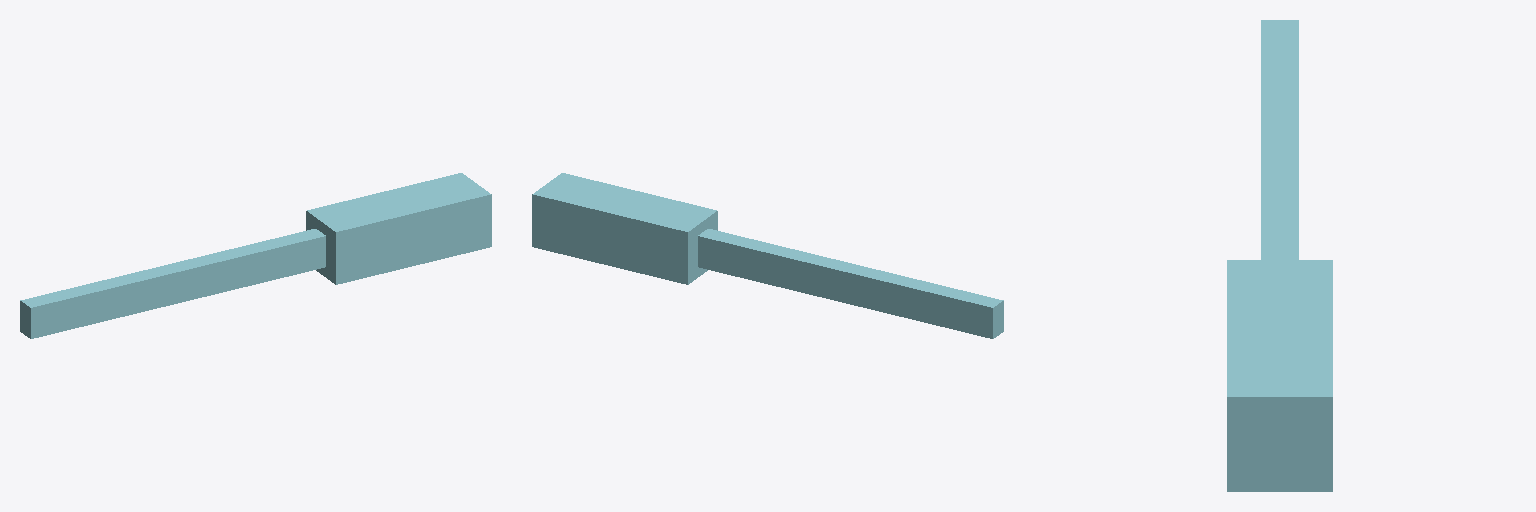
URDF robot description (cuboid_brush_v8010):
<?xml version="1.0"?>
<robot name="cuboid_brush_v8010">

  <link name="cuboid_brush_v8010">
    <!-- Handle -->
    <visual>
      <origin xyz="0 0 0" rpy="0 0 0"/>
      <geometry>
        <box size="0.18955769263837258 0.011457078695408742 0.019215392104791323"/>
      </geometry>
      <material name="material">
        <color rgba="0.639 0.847 0.882 1.0"/>
      </material>
    </visual>
    <collision>
      <origin xyz="0 0 0" rpy="0 0 0"/>
      <geometry>
        <box size="0.18955769263837258 0.011457078695408742 0.019215392104791323"/>
      </geometry>
    </collision>

    <!-- Head -->
    <visual>
      <origin xyz="0.1446833777750735 0 0" rpy="0 0 0"/>
      <geometry>
        <box size="0.09980906291177444 0.03300908023114948 0.03236870100027409"/>
      </geometry>
      <material name="material">
        <color rgba="0.639 0.847 0.882 1.0"/>
      </material>
    </visual>
    <collision>
      <origin xyz="0.1446833777750735 0 0" rpy="0 0 0"/>
      <geometry>
        <box size="0.09980906291177444 0.03300908023114948 0.03236870100027409"/>
      </geometry>
    </collision>

    <inertial>
      <density value="400.0"/>
    </inertial>
  </link>

</robot>

--- Render facts (derived) ---
The picture shows the robot from 3 angles, left to right: view 1: azimuth 30°, elevation 25°; view 2: azimuth 150°, elevation 25°; view 3: azimuth 270°, elevation 25°; orthographic projection.
Model cuboid_brush_v8010 with 1 links and 0 joints (none), rooted at cuboid_brush_v8010, posed all joints at 0.
Visible links, largest first — view 1: cuboid_brush_v8010; view 2: cuboid_brush_v8010; view 3: cuboid_brush_v8010.
Boxes of the visible links, left/top/right/bottom form: cuboid_brush_v8010: left=20, top=173, right=491, bottom=338; cuboid_brush_v8010: left=532, top=173, right=1003, bottom=338; cuboid_brush_v8010: left=1227, top=20, right=1332, bottom=491.
Bounding box of the posed robot: 0.2894 × 0.033 × 0.0324 m (x, y, z).
Geometry: primitives only (box / cylinder / sphere), no mesh files.
